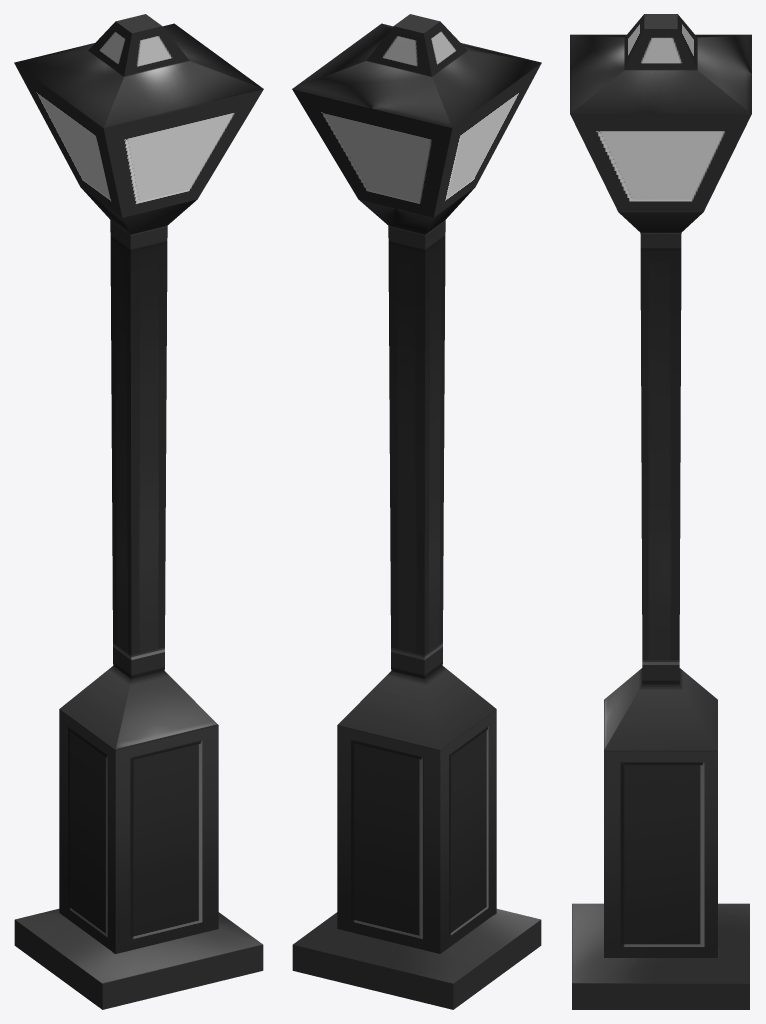
Rendered from lamppost.fbx.
The picture shows the model from 3 angles, left to right: view 1: azimuth 30°, elevation 25°; view 2: azimuth 150°, elevation 25°; view 3: azimuth 270°, elevation 25°; orthographic projection.
Visible parts, largest first — view 1: lamp_mesh; view 2: lamp_mesh; view 3: lamp_mesh.
Boxes of the visible parts, left/top/right/bottom form: lamp_mesh: left=14, top=14, right=263, bottom=1009; lamp_mesh: left=292, top=14, right=541, bottom=1009; lamp_mesh: left=570, top=14, right=751, bottom=1009.
Size of the model in its own units: 1.95 by 10.84 by 1.88.
